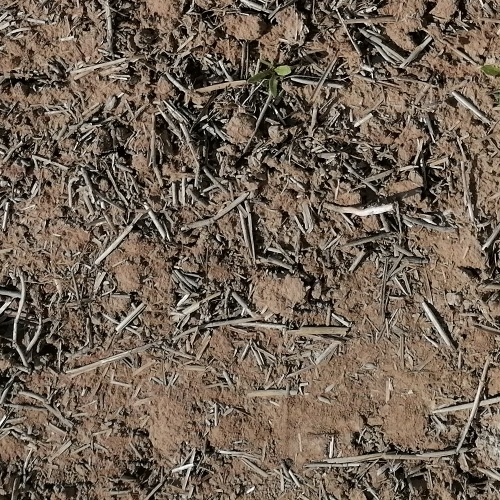beet: (247, 60, 292, 99)
